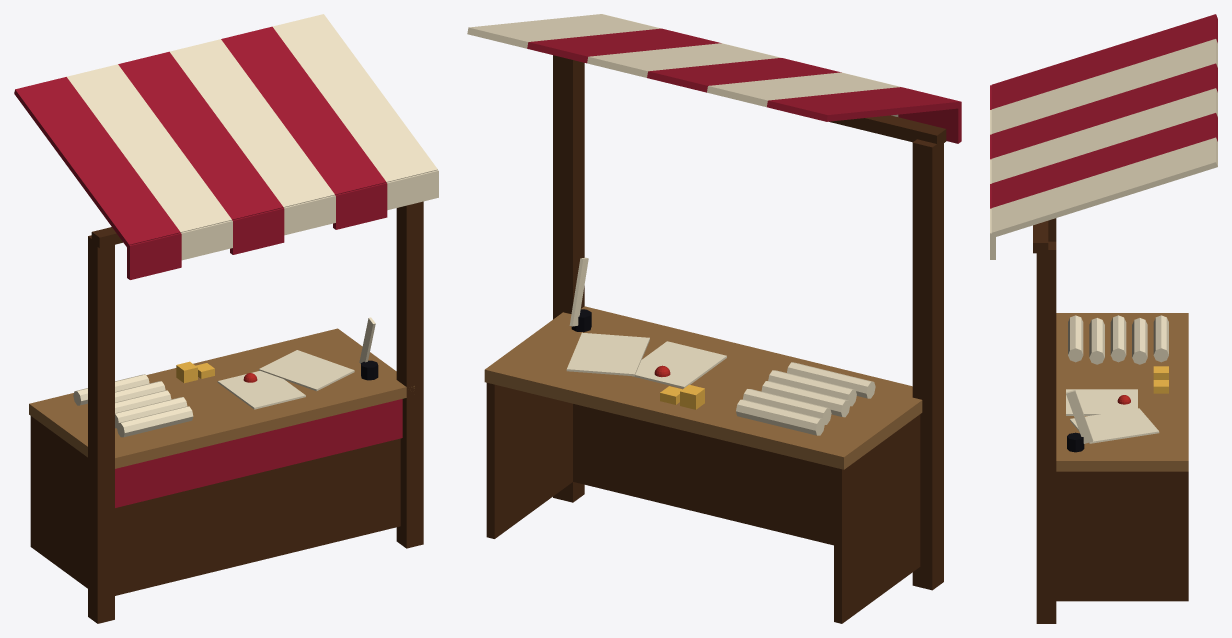
The model's file is shop_guild_stall.gltf.
3 renders of one model, left to right at view 1: azimuth 30°, elevation 25°; view 2: azimuth 150°, elevation 25°; view 3: azimuth 270°, elevation 25°, orthographic. The views are drawn at different scales.
Visible parts, largest first — view 1: ShopGuildStallShopWood, ShopGuildStallShopCloth, ShopGuildStallShopCream, ShopGuildStallShopWoodLight, ShopGuildStallShopGold; view 2: ShopGuildStallShopWood, ShopGuildStallShopWoodLight, ShopGuildStallShopCream, ShopGuildStallShopCloth, ShopGuildStallShopGold; view 3: ShopGuildStallShopCream, ShopGuildStallShopWood, ShopGuildStallShopCloth, ShopGuildStallShopWoodLight, ShopGuildStallShopGold.
Boxes of the visible parts, left/top/right/bottom form: ShopGuildStallShopWood: left=30, top=201, right=423, bottom=623; ShopGuildStallShopCloth: left=14, top=26, right=402, bottom=507; ShopGuildStallShopCream: left=67, top=14, right=438, bottom=437; ShopGuildStallShopWoodLight: left=29, top=328, right=414, bottom=468; ShopGuildStallShopGold: left=176, top=361, right=214, bottom=383; ShopGuildStallShopWood: left=486, top=55, right=946, bottom=623; ShopGuildStallShopWoodLight: left=484, top=306, right=922, bottom=469; ShopGuildStallShopCream: left=467, top=14, right=901, bottom=435; ShopGuildStallShopCloth: left=527, top=28, right=961, bottom=143; ShopGuildStallShopGold: left=660, top=384, right=704, bottom=409; ShopGuildStallShopCream: left=990, top=39, right=1217, bottom=443; ShopGuildStallShopWood: left=1033, top=218, right=1188, bottom=623; ShopGuildStallShopCloth: left=990, top=14, right=1217, bottom=208; ShopGuildStallShopWoodLight: left=1056, top=313, right=1188, bottom=471; ShopGuildStallShopGold: left=1153, top=366, right=1168, bottom=393.
Size of what is drawn, in the model's own units: 1.9 by 2.59 by 1.17.
